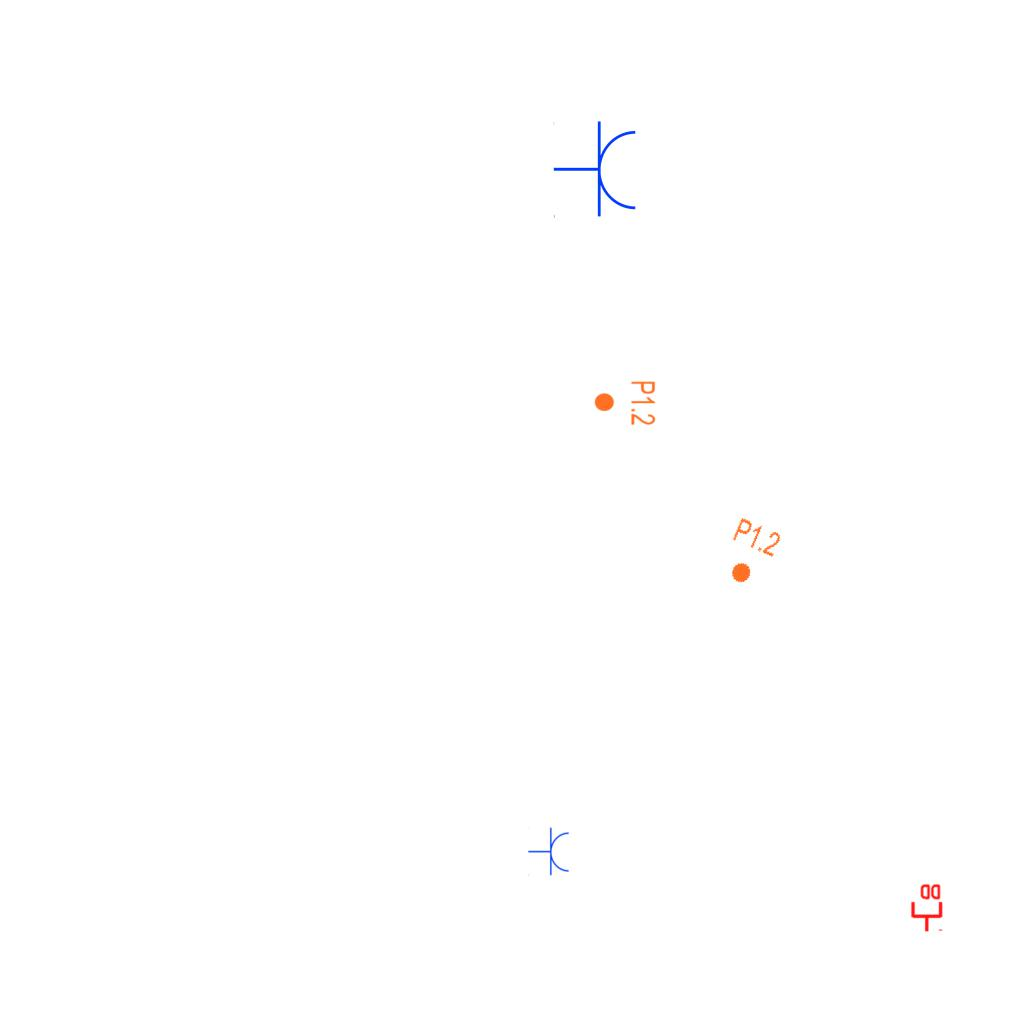Datenanschluss_zweifach: (909, 882, 943, 933)
Downlight_LED_Einbauleuchten_Flur: (716, 515, 784, 593), (593, 380, 657, 426)
Schukosteckdose_einfach: (553, 120, 640, 220), (528, 827, 571, 877)
